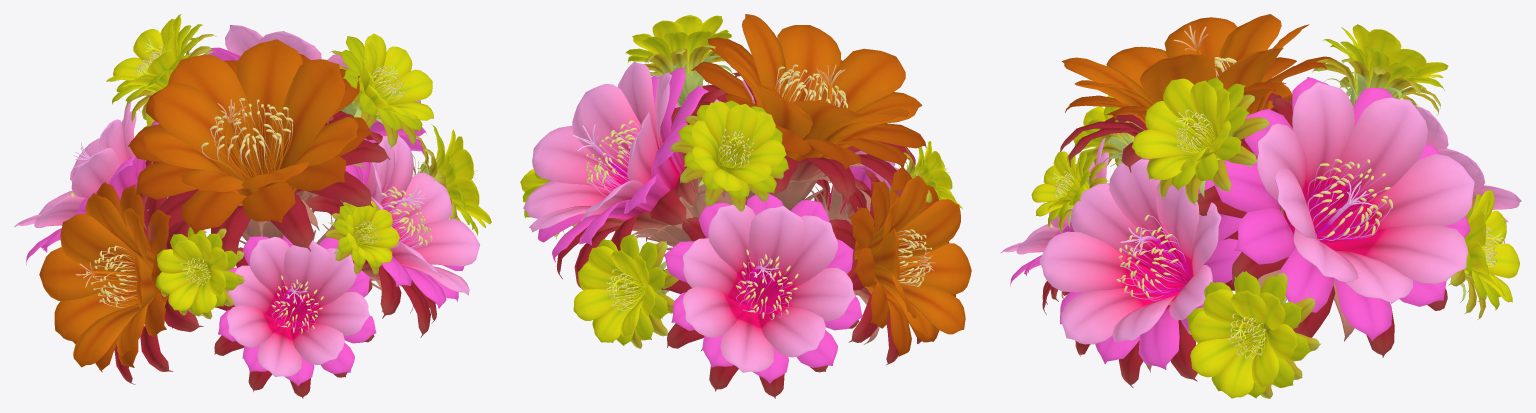
File: flowers-transformed.glb
The picture shows the model from 3 angles, left to right: view 1: azimuth 30°, elevation 25°; view 2: azimuth 150°, elevation 25°; view 3: azimuth 270°, elevation 25°; orthographic projection. The views are drawn at different scales.
Parts seen in each view (by area): view 1: Cylinder.004_0, Cylinder.005_0 (×3), Cylinder.011_0 (×4), Cylinder.004, Cylinder.005, Cylinder.011; view 2: Cylinder.005_0 (×2), Cylinder.004_0, Cylinder.011_0 (×5), Cylinder.004, Cylinder.005; view 3: Cylinder.005_0 (×3), Cylinder.011_0 (×5), Cylinder.004_0, Cylinder.011, Cylinder.005.
Boxes of the visible parts, x1=… form: Cylinder.004_0: x1=128, y1=39, x2=390, y2=254; Cylinder.005_0 (×3): x1=14, y1=25, x2=479, y2=337; Cylinder.011_0 (×4): x1=106, y1=14, x2=491, y2=319; Cylinder.004: x1=39, y1=181, x2=206, y2=384; Cylinder.005: x1=214, y1=235, x2=376, y2=398; Cylinder.011: x1=324, y1=201, x2=399, y2=274; Cylinder.005_0 (×2): x1=523, y1=61, x2=862, y2=398; Cylinder.004_0: x1=671, y1=14, x2=926, y2=210; Cylinder.011_0 (×5): x1=520, y1=15, x2=962, y2=348; Cylinder.004: x1=828, y1=167, x2=971, y2=364; Cylinder.005: x1=811, y1=150, x2=899, y2=224; Cylinder.005_0 (×3): x1=1039, y1=77, x2=1521, y2=387; Cylinder.011_0 (×5): x1=1073, y1=24, x2=1519, y2=398; Cylinder.004_0: x1=1060, y1=14, x2=1336, y2=172; Cylinder.011: x1=1031, y1=151, x2=1108, y2=232; Cylinder.005: x1=1000, y1=137, x2=1109, y2=314.
Size of the model in its own units: 2.98 by 1.89 by 2.86.
3 materials, 3 textured.
